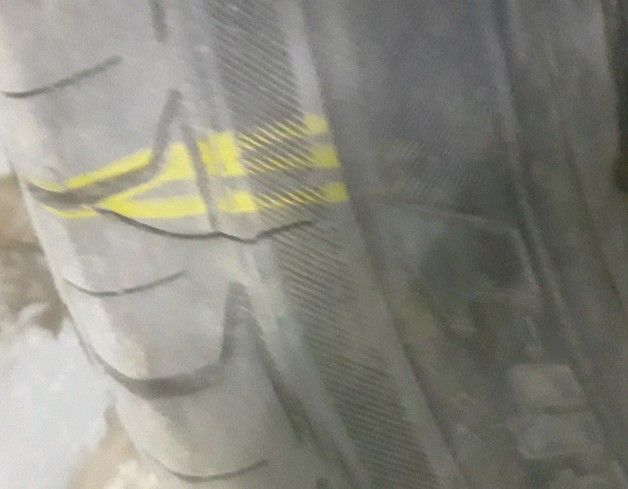cut: (87, 206, 314, 248)
